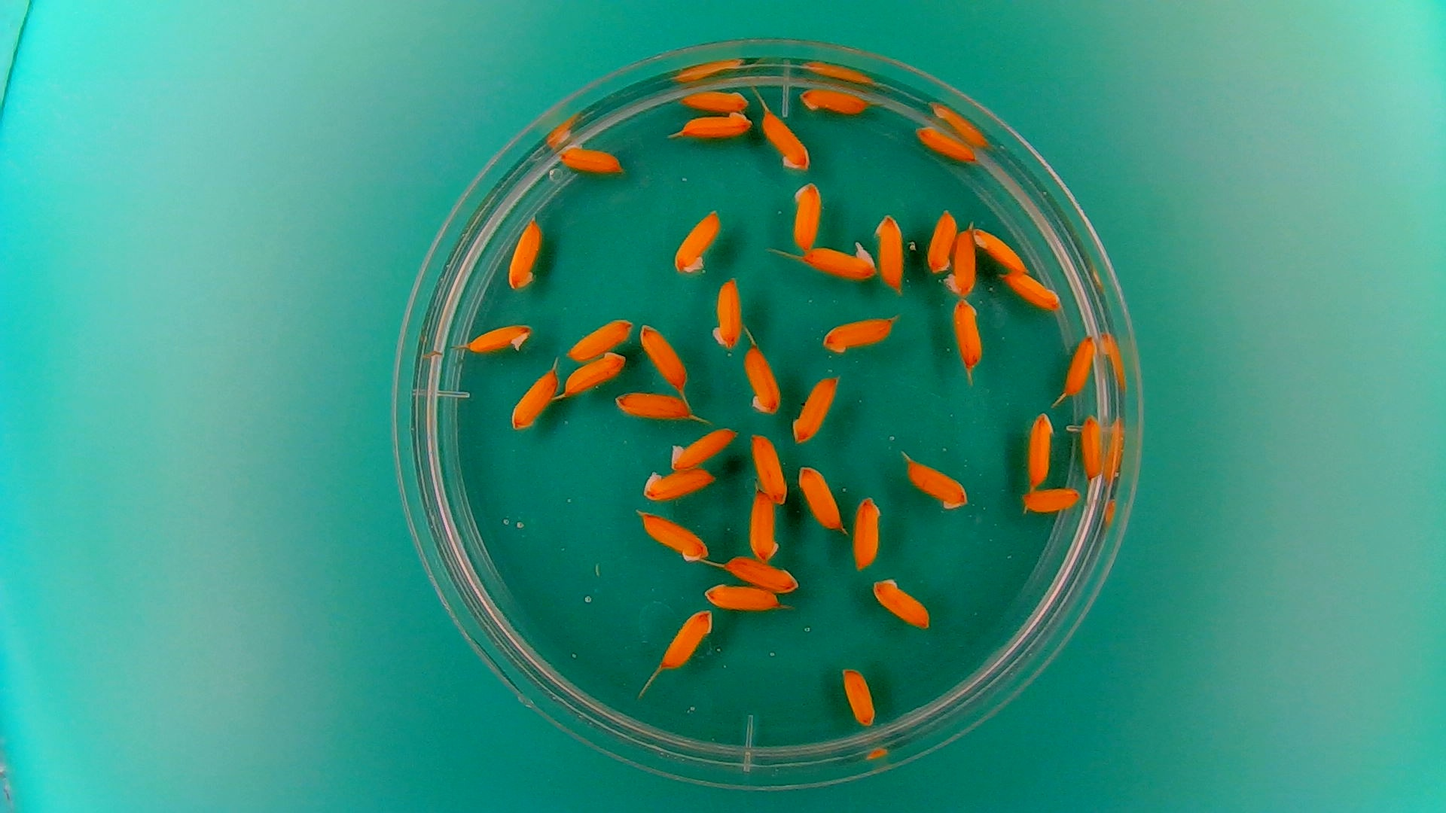no: (900, 452, 970, 513), (636, 509, 712, 565), (658, 605, 715, 671), (789, 373, 840, 445), (668, 423, 740, 473), (870, 574, 934, 630), (637, 321, 688, 390), (759, 107, 813, 171), (795, 461, 844, 531), (671, 206, 722, 273), (508, 366, 560, 431), (819, 312, 898, 354), (561, 348, 628, 397), (722, 554, 801, 593), (749, 429, 789, 505), (564, 317, 633, 361), (639, 464, 718, 502), (505, 212, 543, 291), (743, 343, 782, 416), (676, 109, 755, 145), (972, 224, 1030, 273), (873, 210, 907, 292), (938, 226, 977, 297), (951, 297, 986, 375), (708, 273, 743, 350), (613, 387, 694, 420), (464, 319, 535, 356), (999, 268, 1061, 310), (1024, 408, 1055, 490), (851, 492, 883, 571), (914, 123, 976, 163), (789, 179, 822, 254), (839, 663, 877, 728), (703, 581, 782, 612), (556, 140, 625, 175), (1062, 331, 1097, 397), (748, 487, 779, 561), (926, 206, 957, 273), (1019, 483, 1083, 515), (800, 84, 868, 114), (1074, 410, 1103, 480), (676, 86, 751, 112)
yes: (800, 240, 877, 281)
